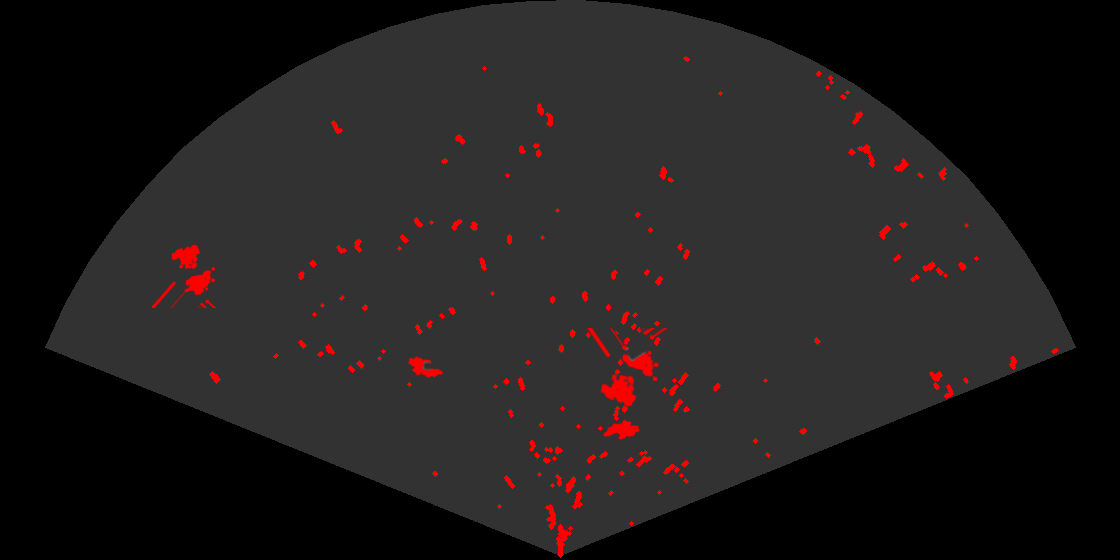AUV: (406, 355, 445, 380), (601, 418, 642, 441)
cage: (585, 328, 670, 408), (152, 243, 218, 308)
